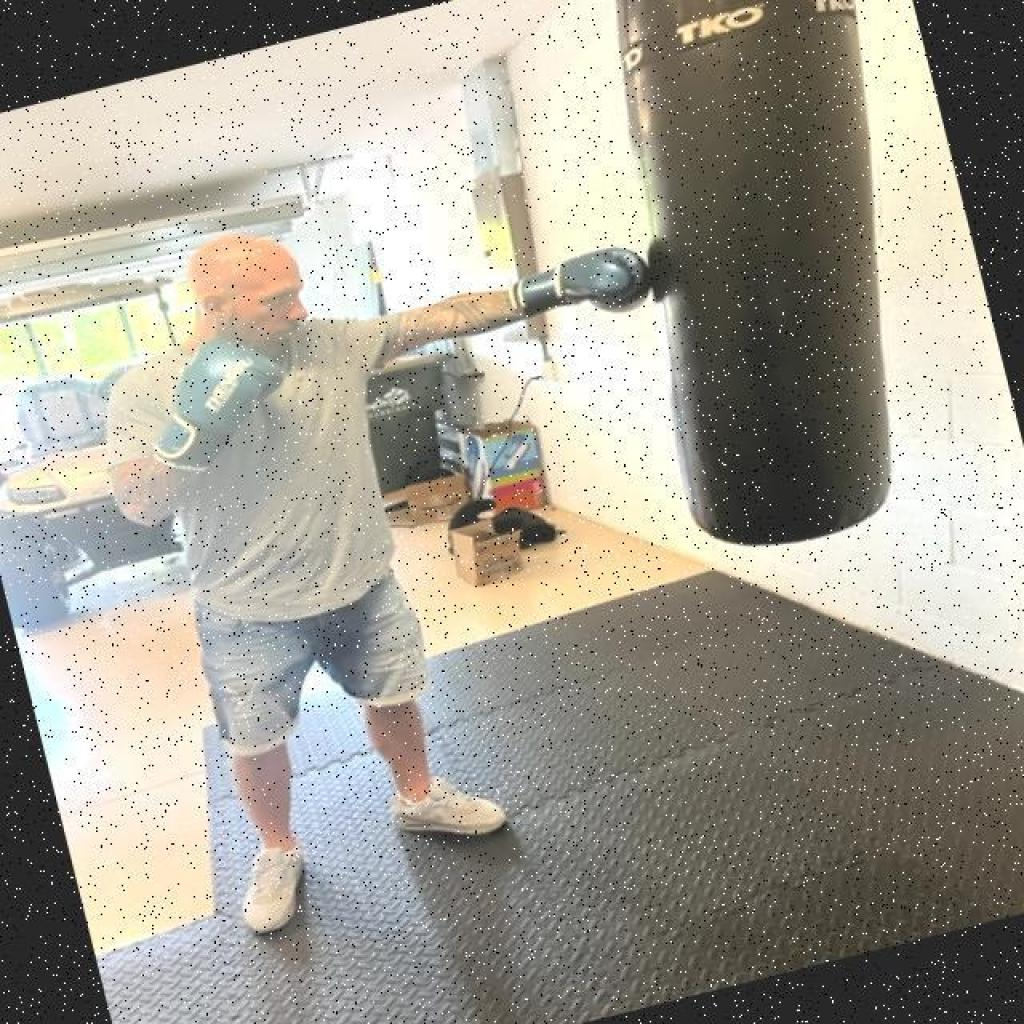jab: (76, 125, 698, 496)
